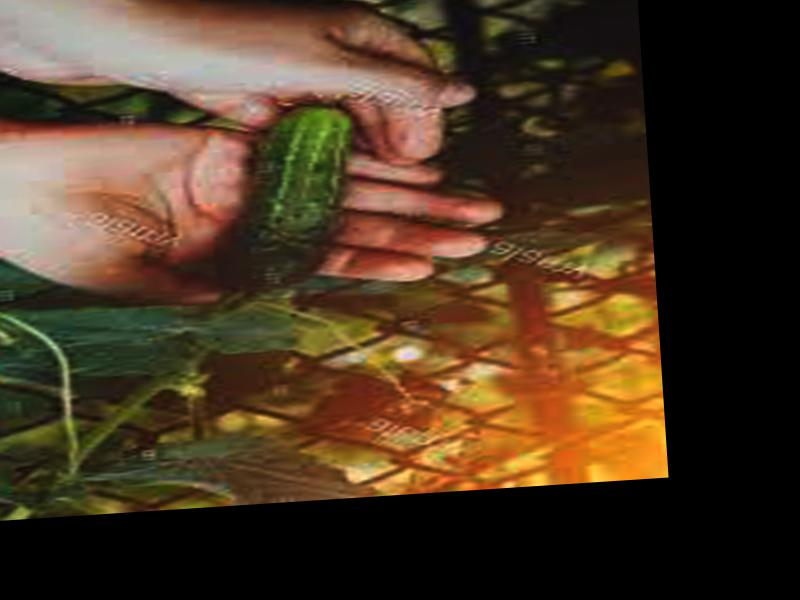Cucumber: (210, 100, 366, 292)
